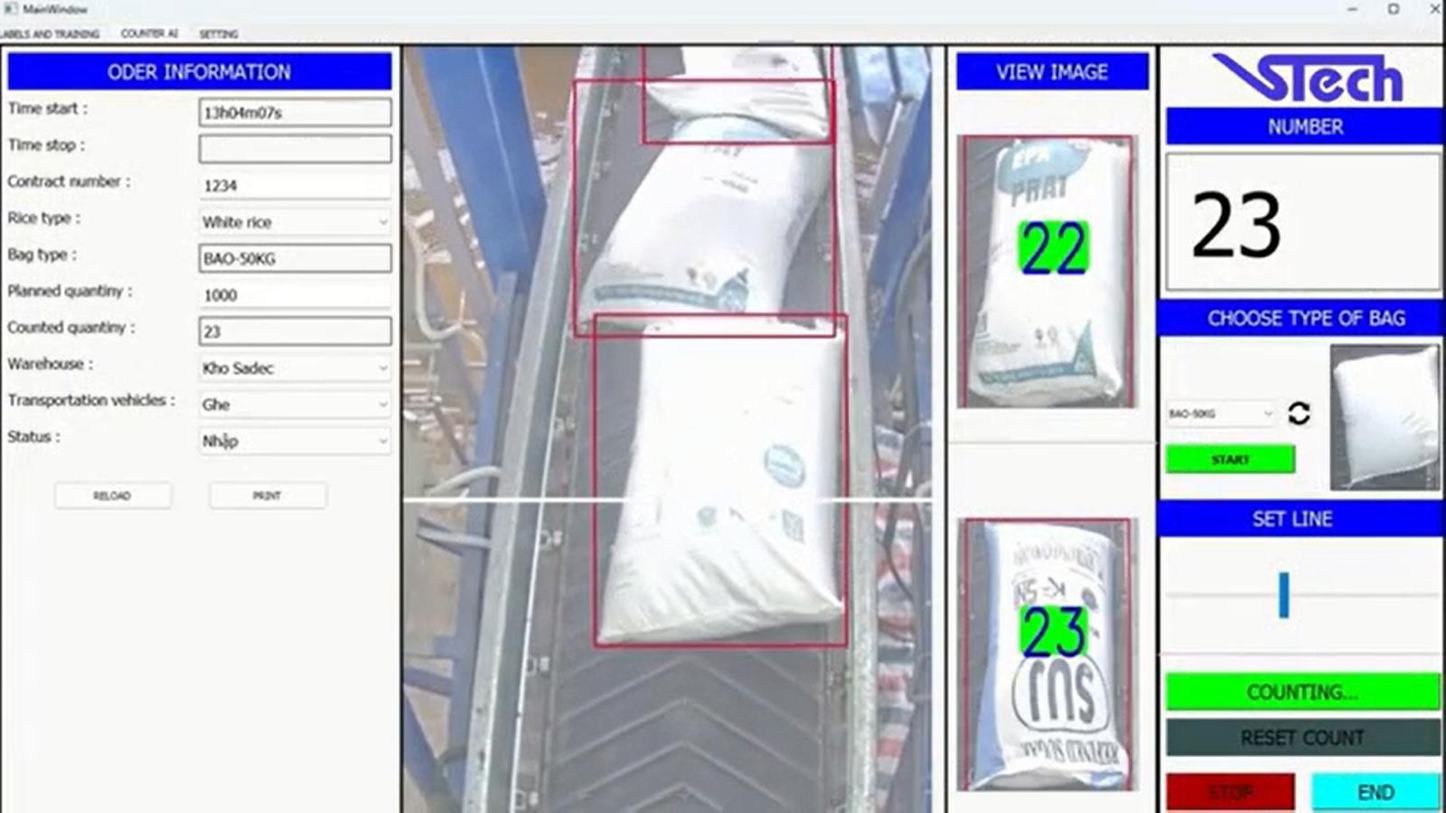rice-bag: (598, 315, 846, 648), (579, 145, 831, 322), (965, 138, 1131, 406), (971, 522, 1129, 790)
